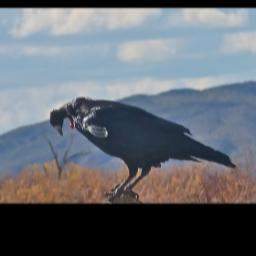Crow: (48, 95, 238, 202)
